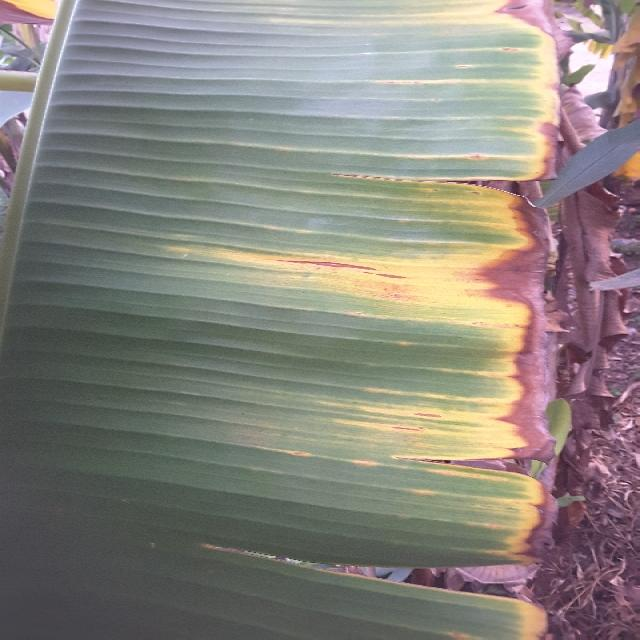Bract_mosaic_virus: (554, 85, 622, 504)
Cordana: (150, 2, 554, 640), (588, 0, 640, 225), (0, 0, 85, 45)
